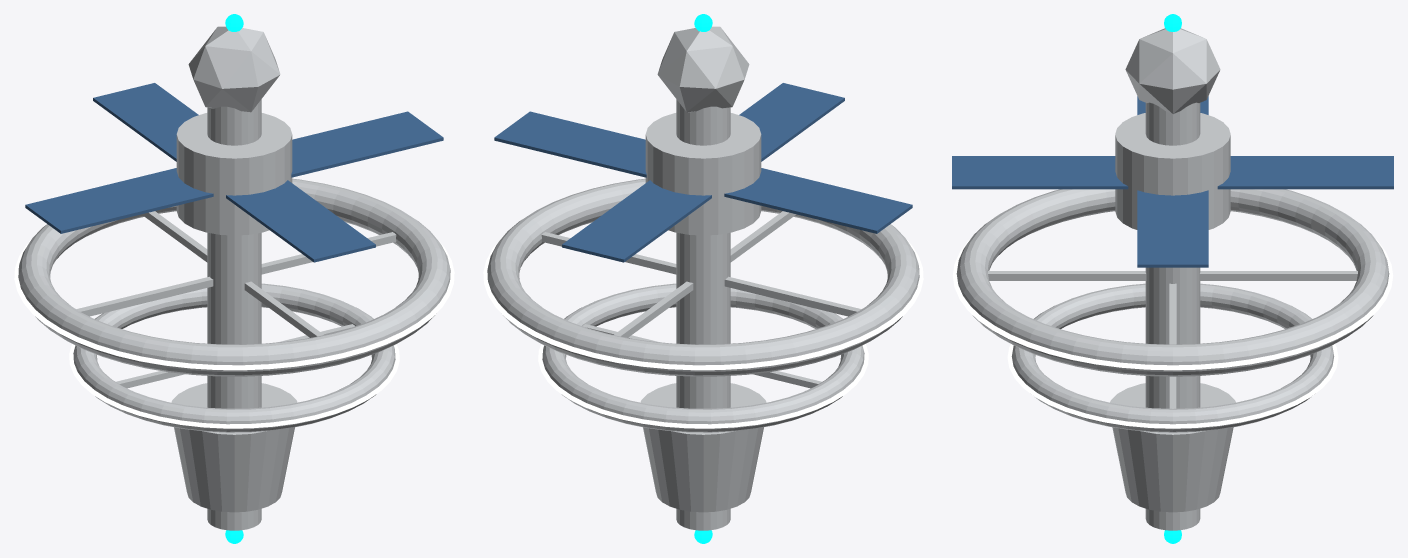
File: jupiter-europa-station.glb
The picture shows the model from 3 angles, left to right: view 1: azimuth 30°, elevation 25°; view 2: azimuth 150°, elevation 25°; view 3: azimuth 270°, elevation 25°; orthographic projection.
Visible parts, largest first — view 1: station_body, rotor_ring; view 2: station_body, rotor_ring; view 3: station_body, rotor_ring.
Boxes of the visible parts, <box> form: station_body: <box>25,14,443,543</box>; rotor_ring: <box>14,178,454,432</box>; station_body: <box>494,14,912,543</box>; rotor_ring: <box>483,178,923,432</box>; station_body: <box>952,14,1393,543</box>; rotor_ring: <box>952,189,1393,432</box>.
Size of the model in its own units: 2.6 by 3.43 by 2.6.
